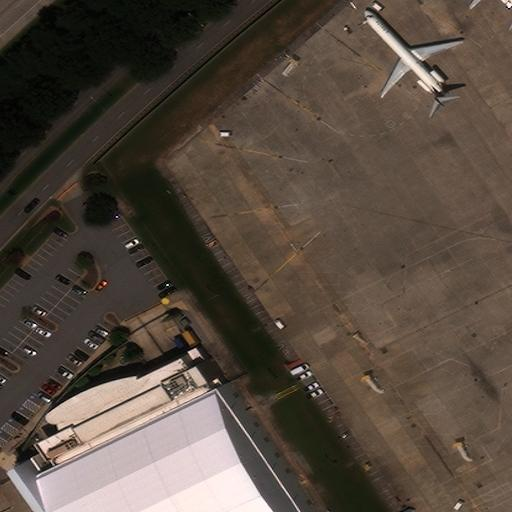Medium Civil Transport: (361, 6, 463, 106)
